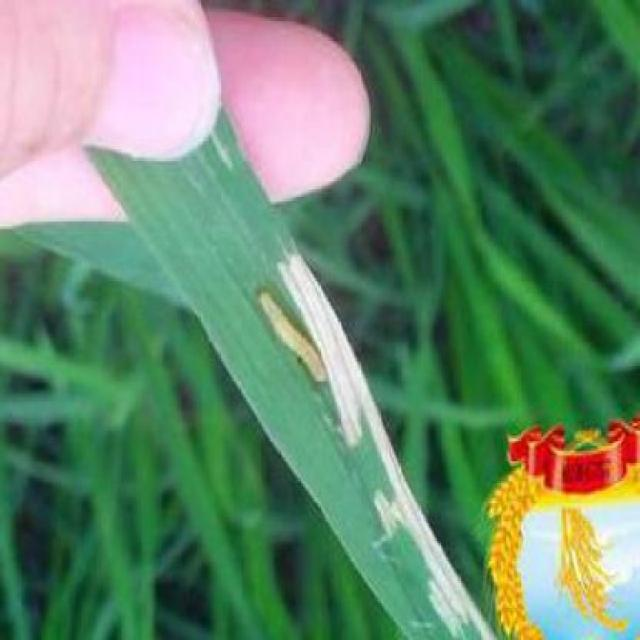leaf-folder: (240, 264, 346, 428)
